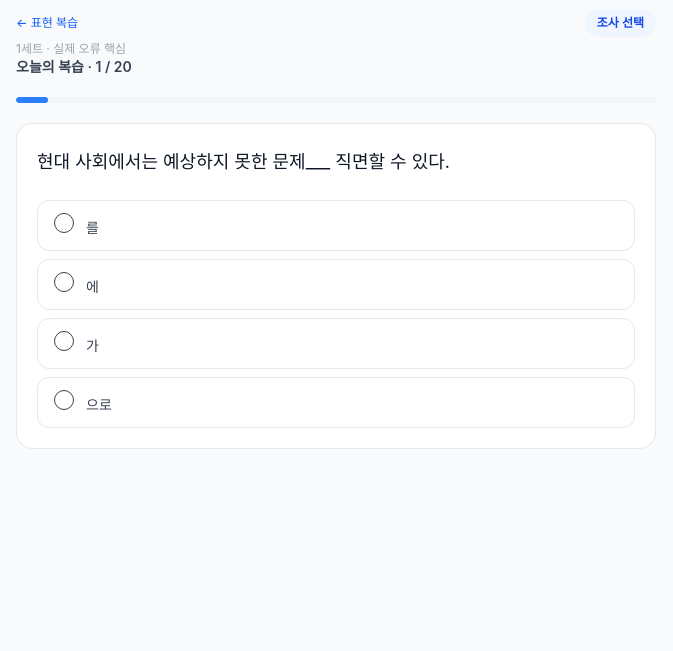
Test case: ReviewSession › reuses the answer id when a saved response is retried after a network failure
The width and height of the screenshot is (673, 651).
Expected: the text "현대 사회에서는 예상하지 못한 문제___ 직면할 수 있다." is shown, left=37, top=151, right=450, bottom=172
Click the radio button labelled "에".
click(64, 282)  # box left=37, top=259, right=635, bottom=310
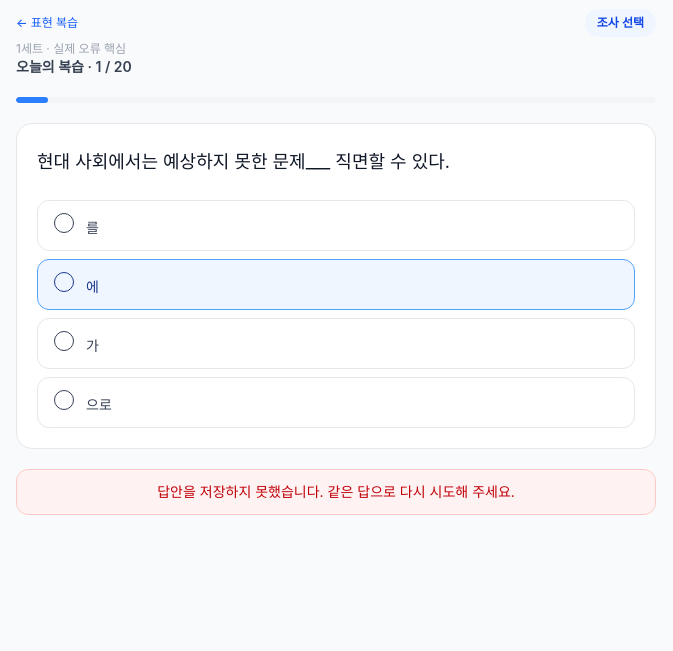
Expected: the message "답안을 저장하지 못했습니다. 같은 답으로 다시 시도해 주세요." is shown, left=16, top=469, right=656, bottom=515
Click the radio button labelled "에".
click(64, 282)  # box left=37, top=259, right=635, bottom=310
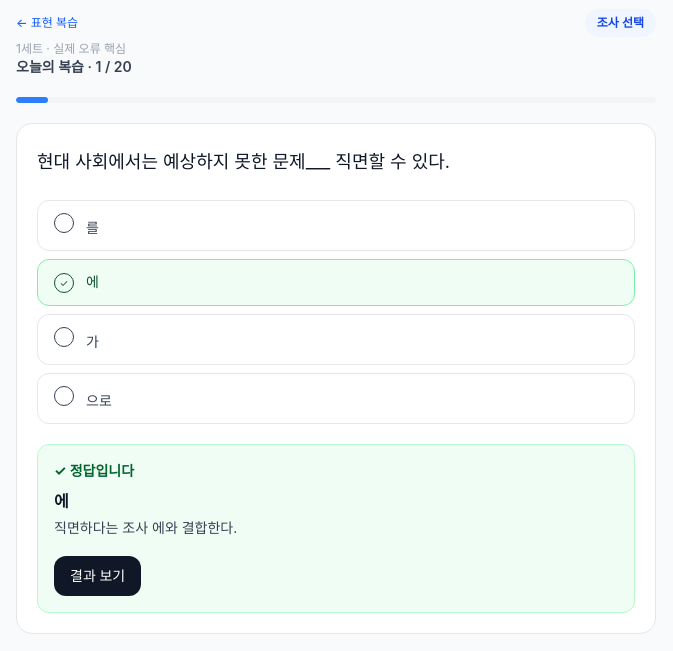
Expected: the text "✓ 정답입니다" is shown, left=54, top=462, right=134, bottom=479
